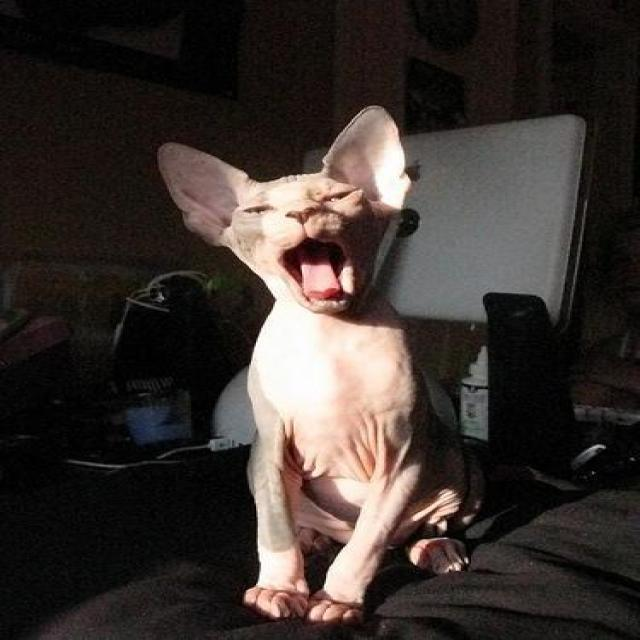cat: (155, 105, 483, 626)
